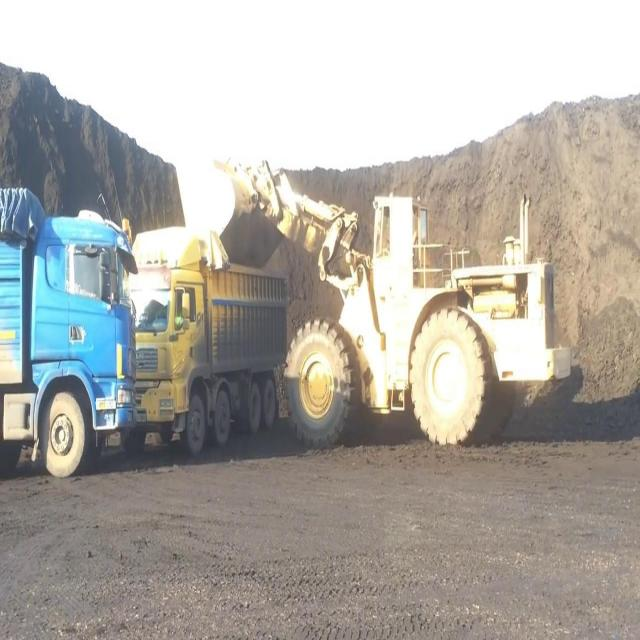Dump Truck: (0, 182, 137, 486), (126, 220, 284, 456)
Loader: (217, 131, 575, 462)
